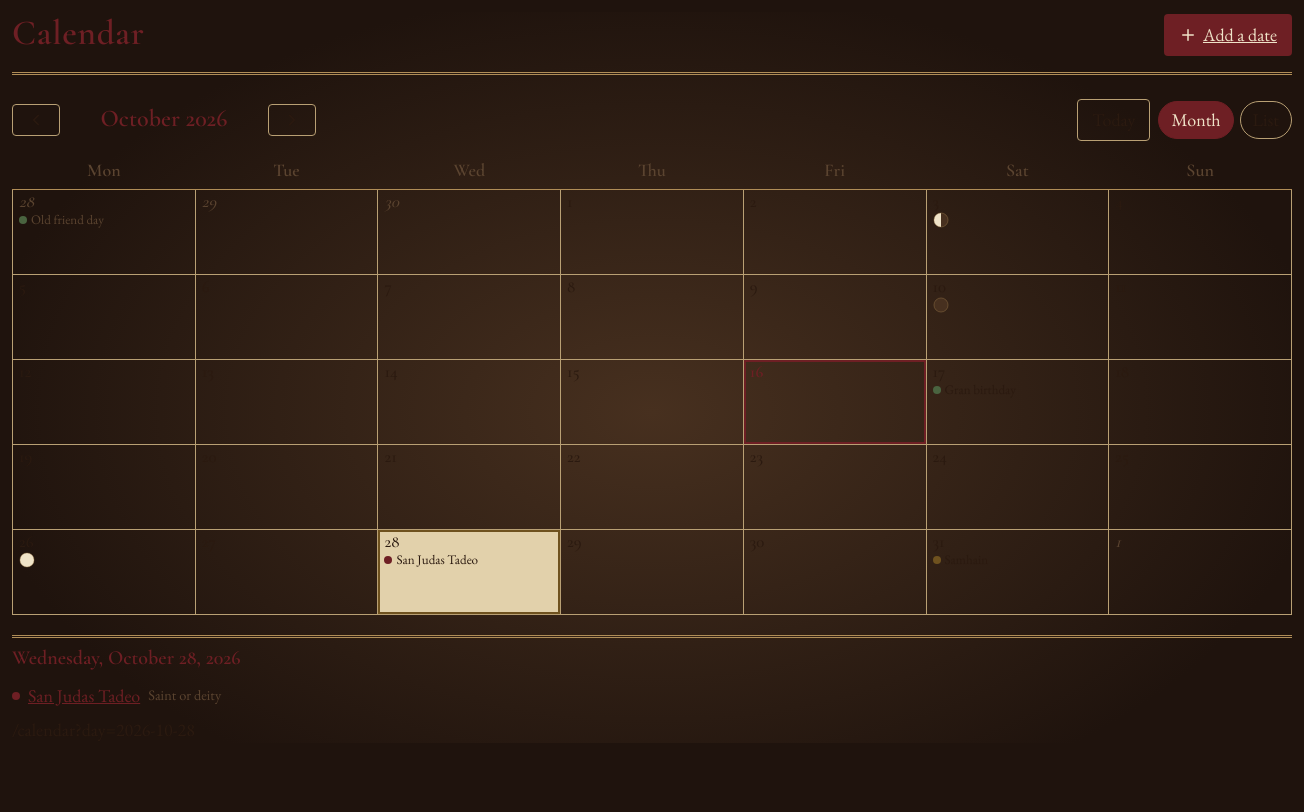
Test: Calendar › closes the open day when it is clicked again
Check: the element "Wednesday, October 28, 2026 San Judas Tadeo Saint or deity" is shown, box [12,635,1292,716]
Click the button with aria-label "October 28, 2026" at (469, 572), box [378,530,560,614]
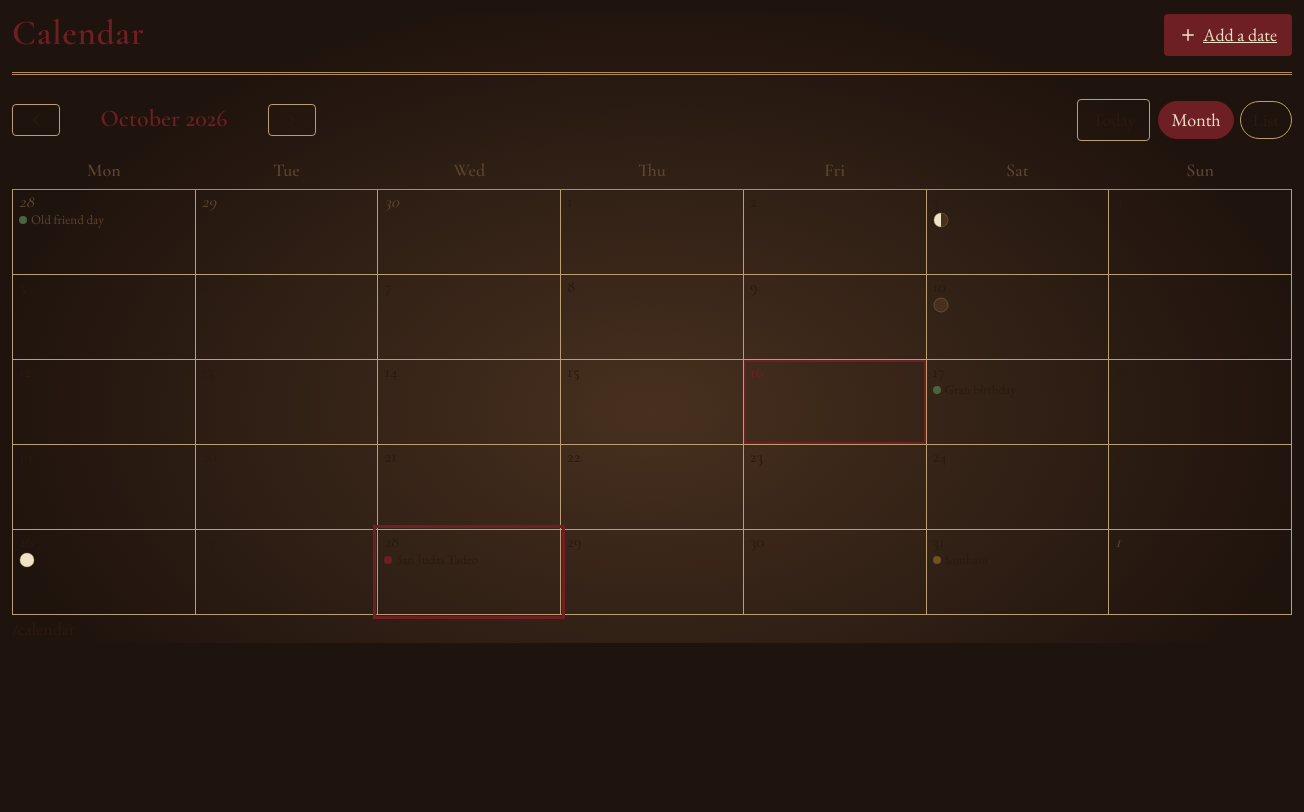
Check: the text with test id "where" no longer shows "day=", box [12,617,75,640]
